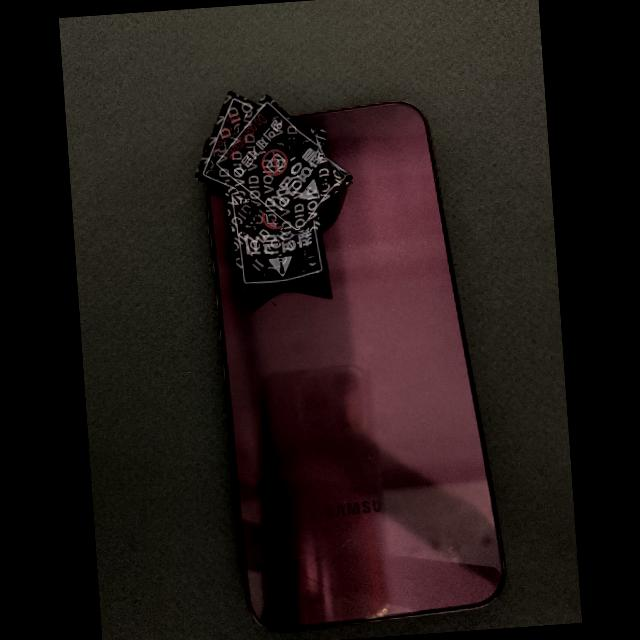phone: (204, 101, 505, 634)
sticker: (207, 94, 353, 234), (224, 191, 329, 291), (196, 91, 254, 199)
